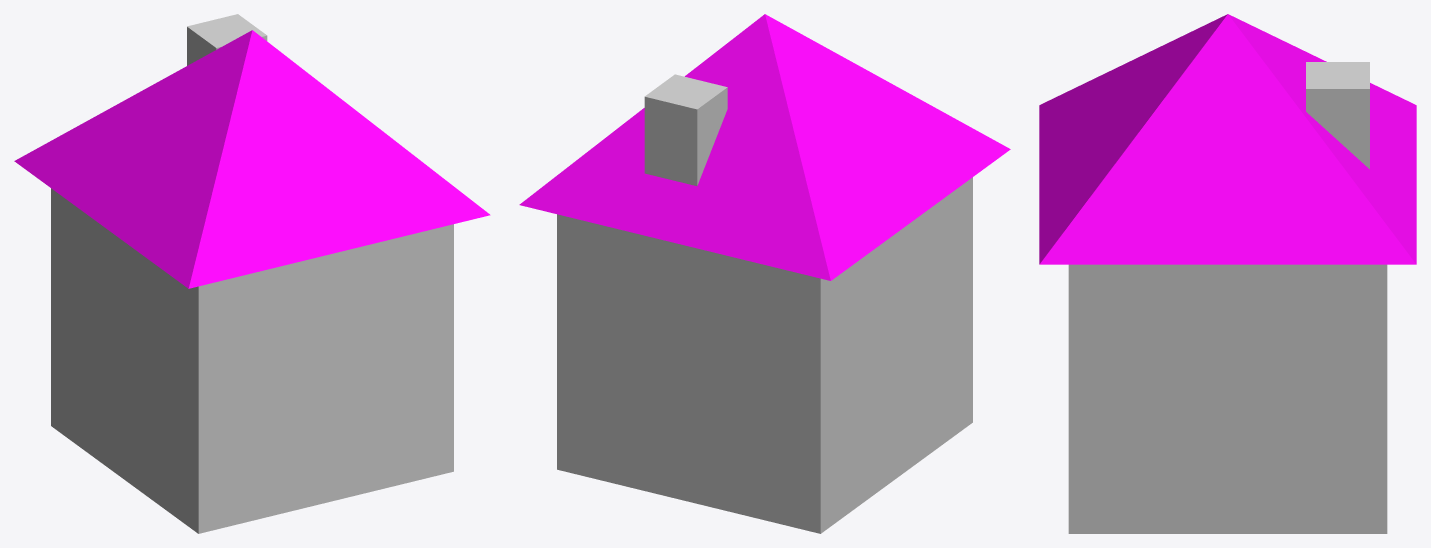
Rendered from farm.fbx.
3 views of the same model, side by side, from view 1: azimuth 30°, elevation 25°; view 2: azimuth 150°, elevation 25°; view 3: azimuth 270°, elevation 25° (orthographic). The views are drawn at different scales.
Visible parts, largest first — view 1: Cube; view 2: Cube; view 3: Cube.
Part boxes in pixels (x1,y1,x2,y2): Cube: [14, 14, 490, 533]; Cube: [519, 14, 1010, 533]; Cube: [1039, 14, 1416, 533].
Size of the model in its own units: 1.18 by 1.57 by 1.18.
